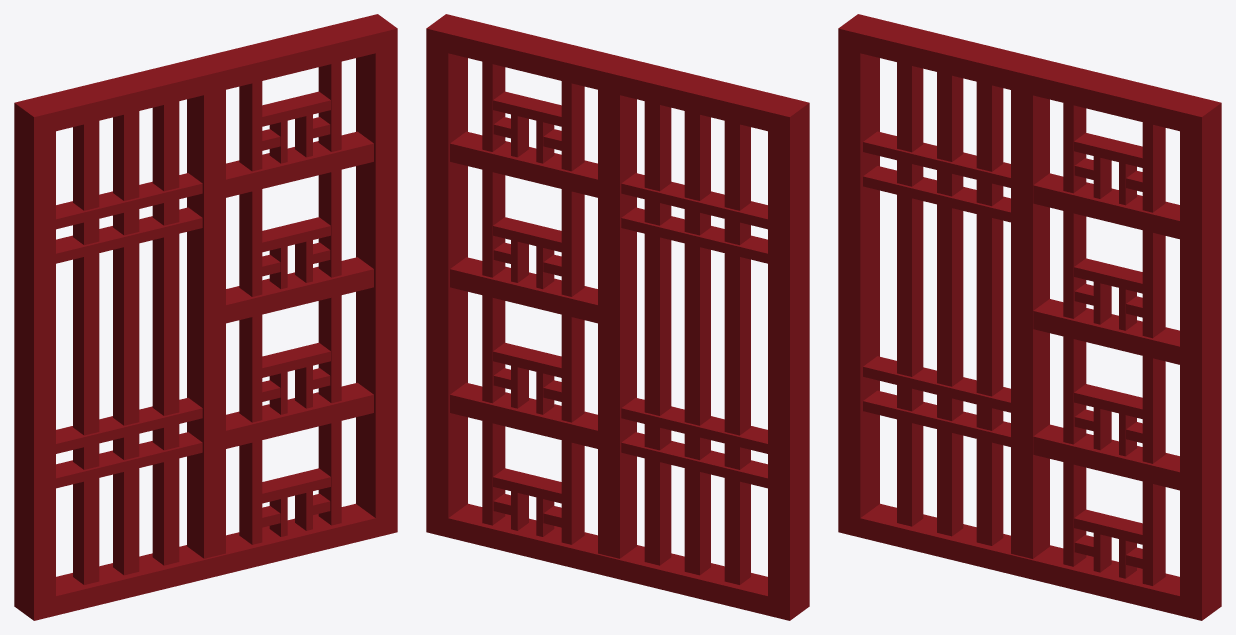
Rendered from Wall Red Wood.glb.
3 renders of one model, left to right at view 1: azimuth 30°, elevation 25°; view 2: azimuth 150°, elevation 25°; view 3: azimuth 330°, elevation 25°, orthographic.
Parts seen in each view (by area): view 1: Wall_RedWood; view 2: Wall_RedWood; view 3: Wall_RedWood.
Part boxes in pixels (<box>): Wall_RedWood: <box>14,14,397,620</box>; Wall_RedWood: <box>426,14,809,620</box>; Wall_RedWood: <box>838,14,1221,620</box>.
Bounding box in the file's own units: 3.75 × 4.96 × 0.3545.
Materials: 1 (1 with a texture image).
